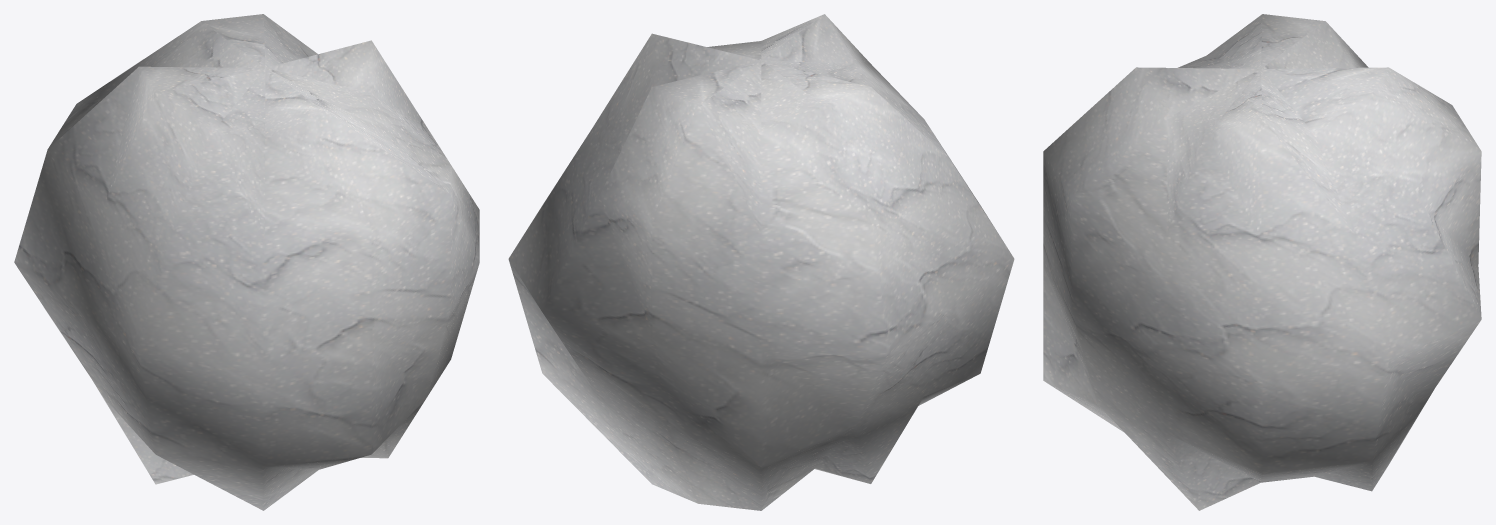
File: snowball.glb
3 views of the same model, side by side, from view 1: azimuth 30°, elevation 25°; view 2: azimuth 150°, elevation 25°; view 3: azimuth 270°, elevation 25° (orthographic).
Parts seen in each view (by area): view 1: snowball; view 2: snowball; view 3: snowball.
Part boxes in pixels (x1,y1,x2,y2): snowball: [14, 14, 479, 510]; snowball: [508, 14, 1014, 510]; snowball: [1043, 14, 1481, 510].
Bounding box in the file's own units: 0.3732 × 0.3464 × 0.3464.
Materials: 1 (1 with a texture image).
